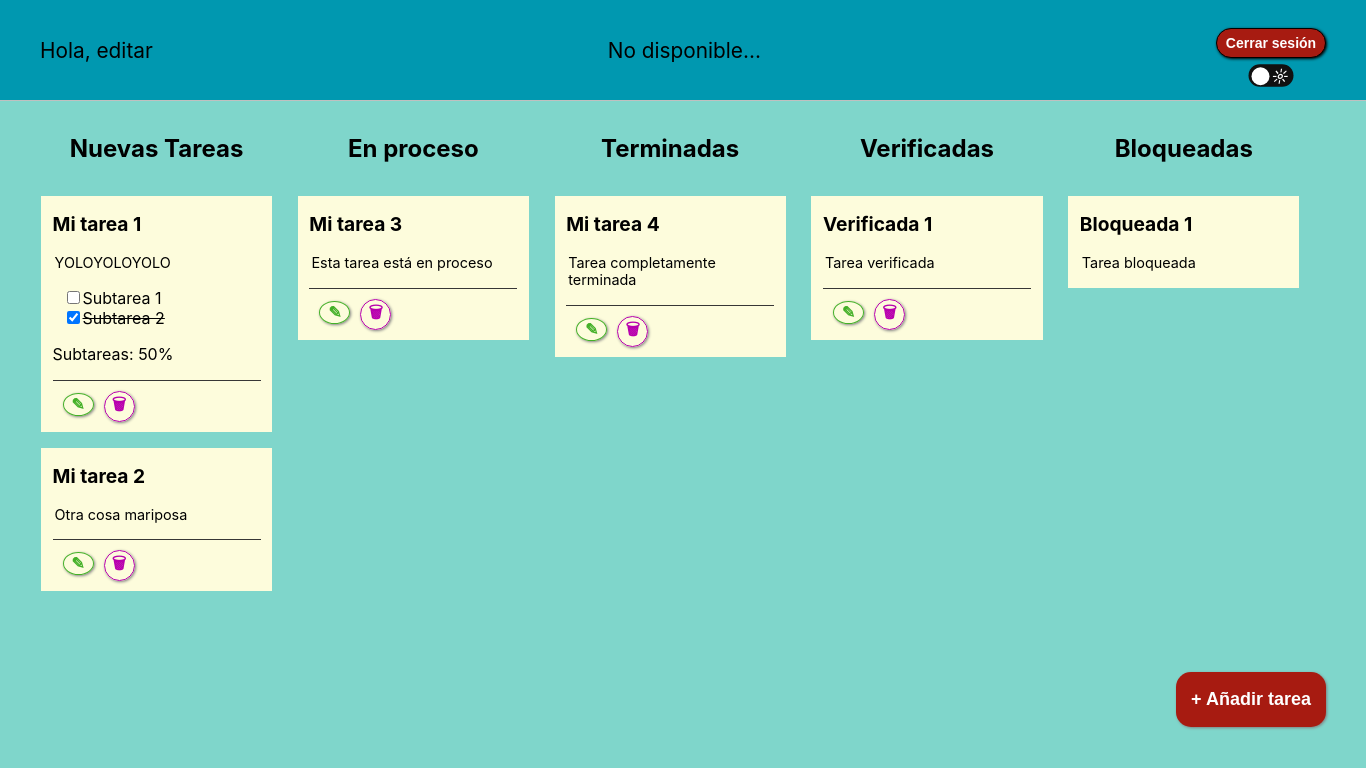
Test case: Edit task › Marking tasks as completed in kanban changes the total percentage
This screenshot has width=1366, height=768.
Expected: the text with test id "porcentaje1" reads "Subtareas: 50%", [53, 344, 174, 364]
Check the checkbox labelled "Subtarea 1" at (74, 298), box [67, 291, 80, 304]
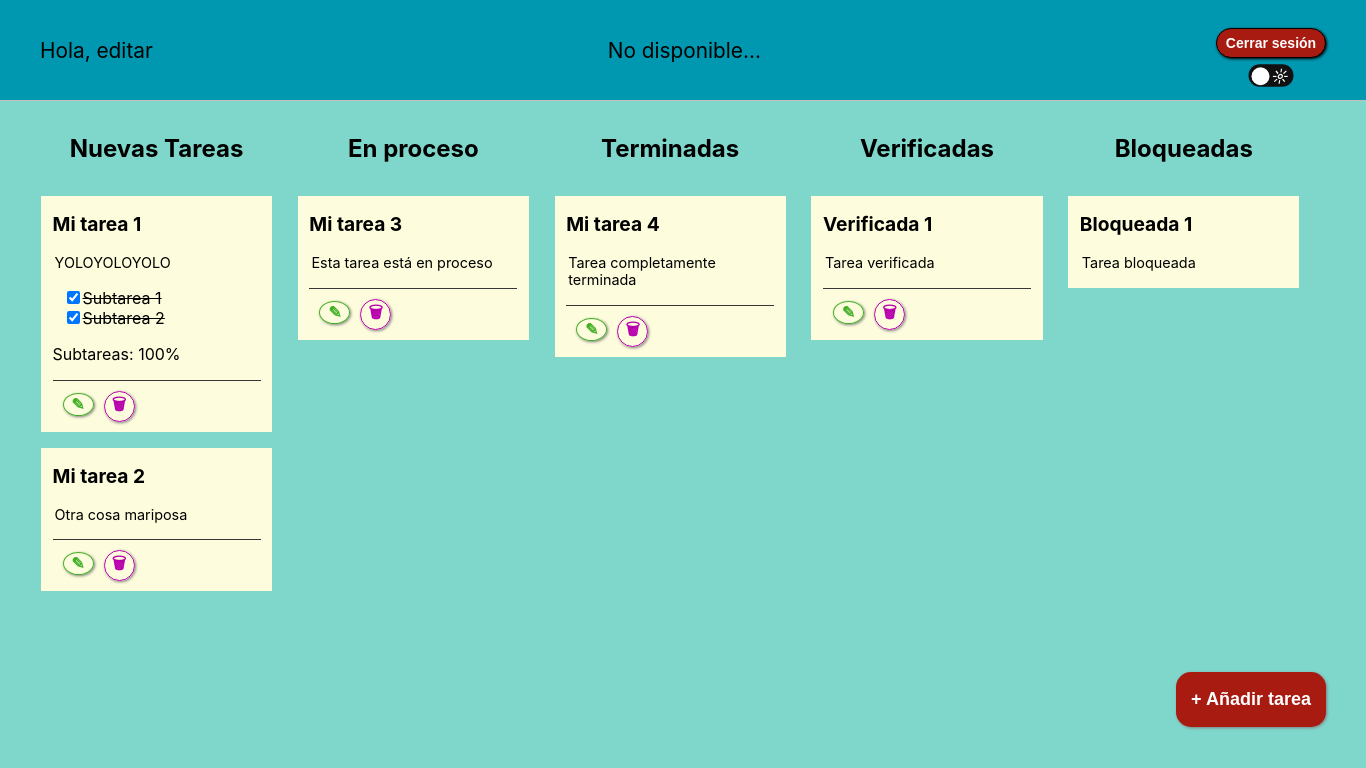
Result: the text with test id "porcentaje1" reads "Subtareas: 100%" at [53, 344, 181, 364]
